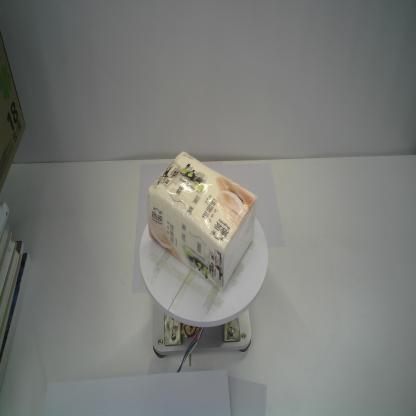Tissue: (146, 150, 260, 294)
